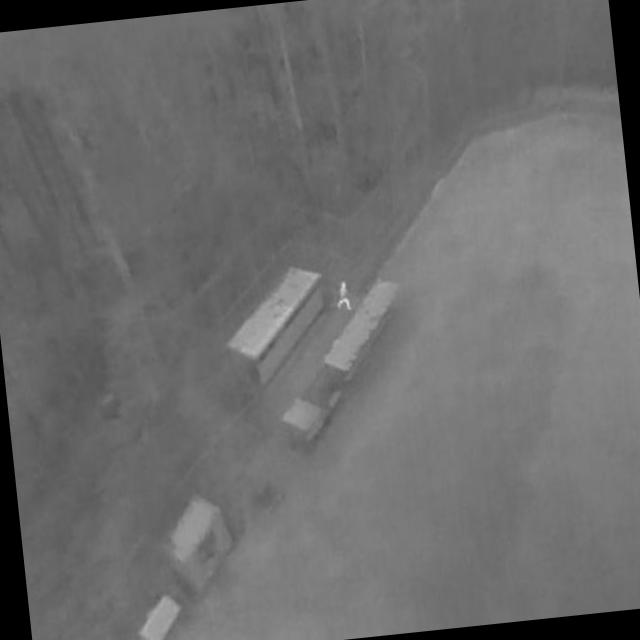person: (333, 279, 354, 313)
